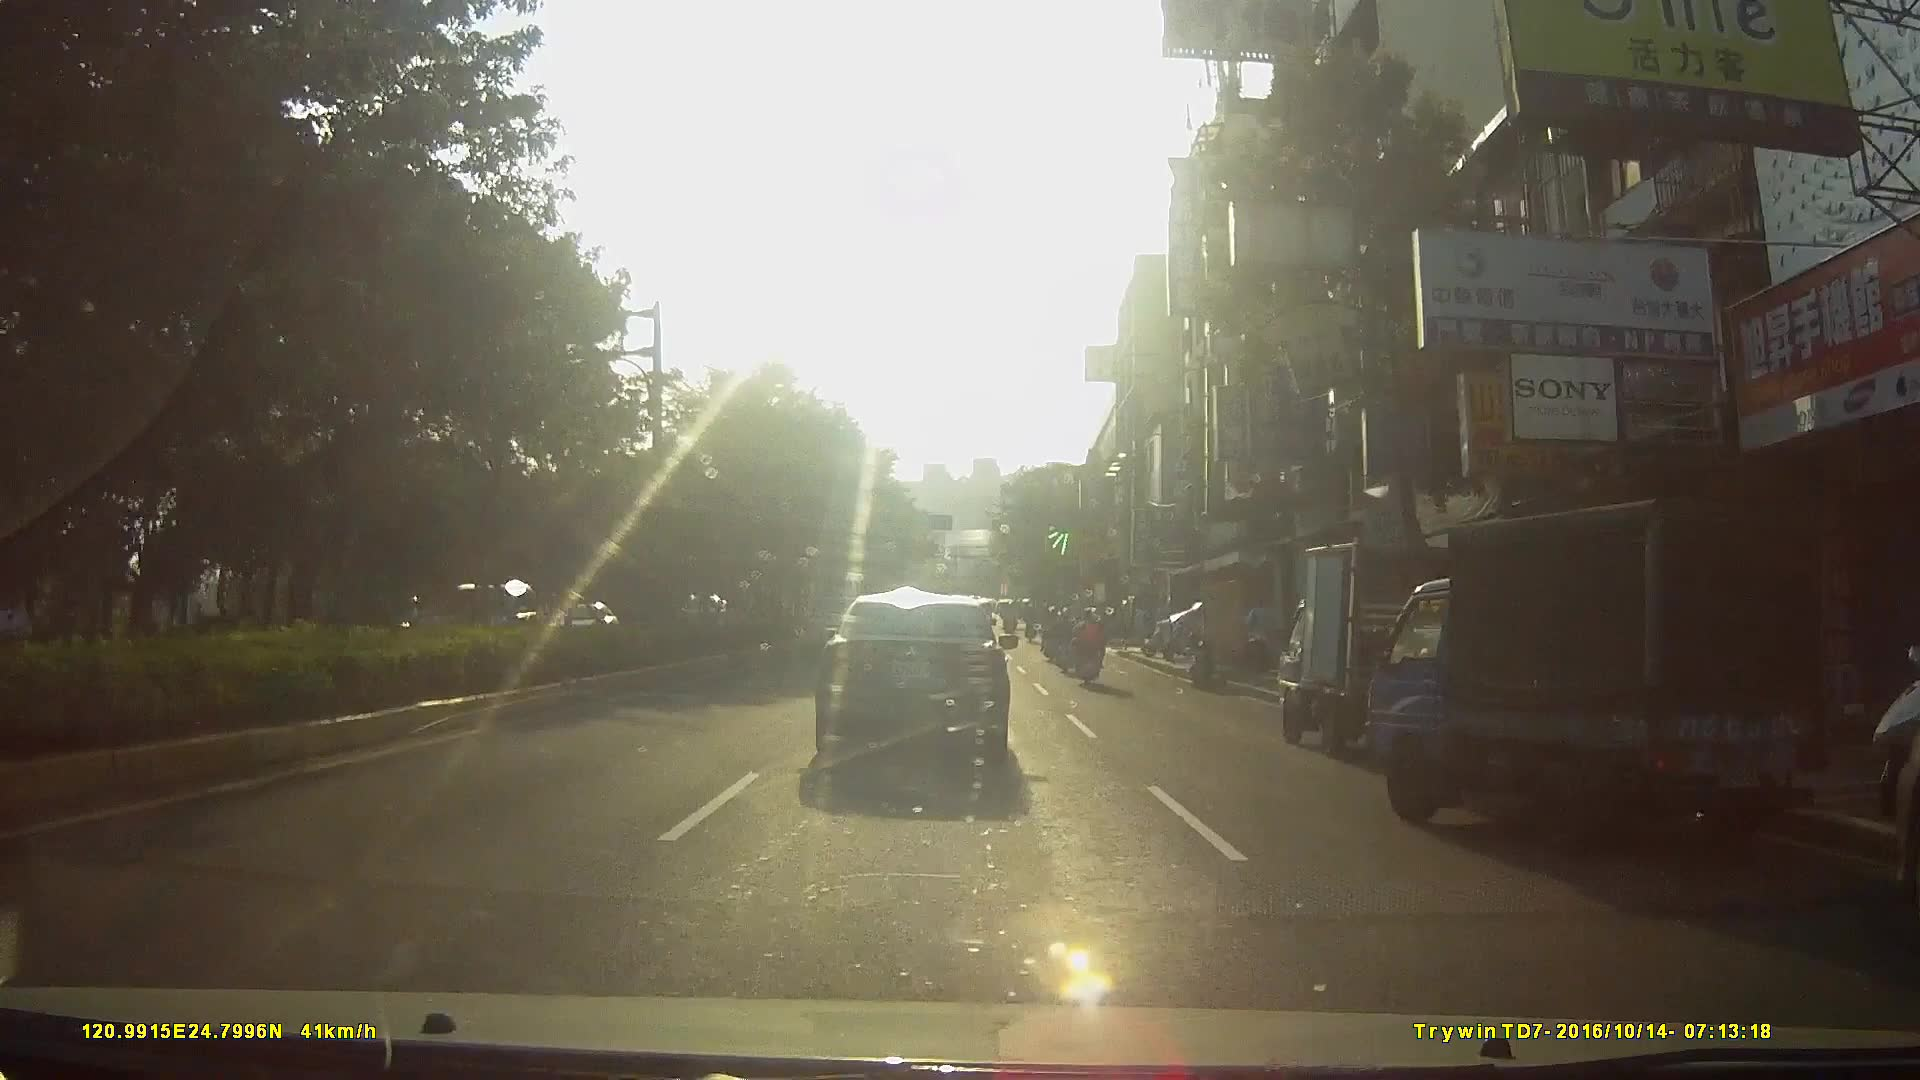rider: (1067, 608, 1109, 689), (1042, 606, 1062, 663)
vehicle: (1364, 489, 1815, 882), (1271, 528, 1526, 759), (812, 589, 1029, 788)
